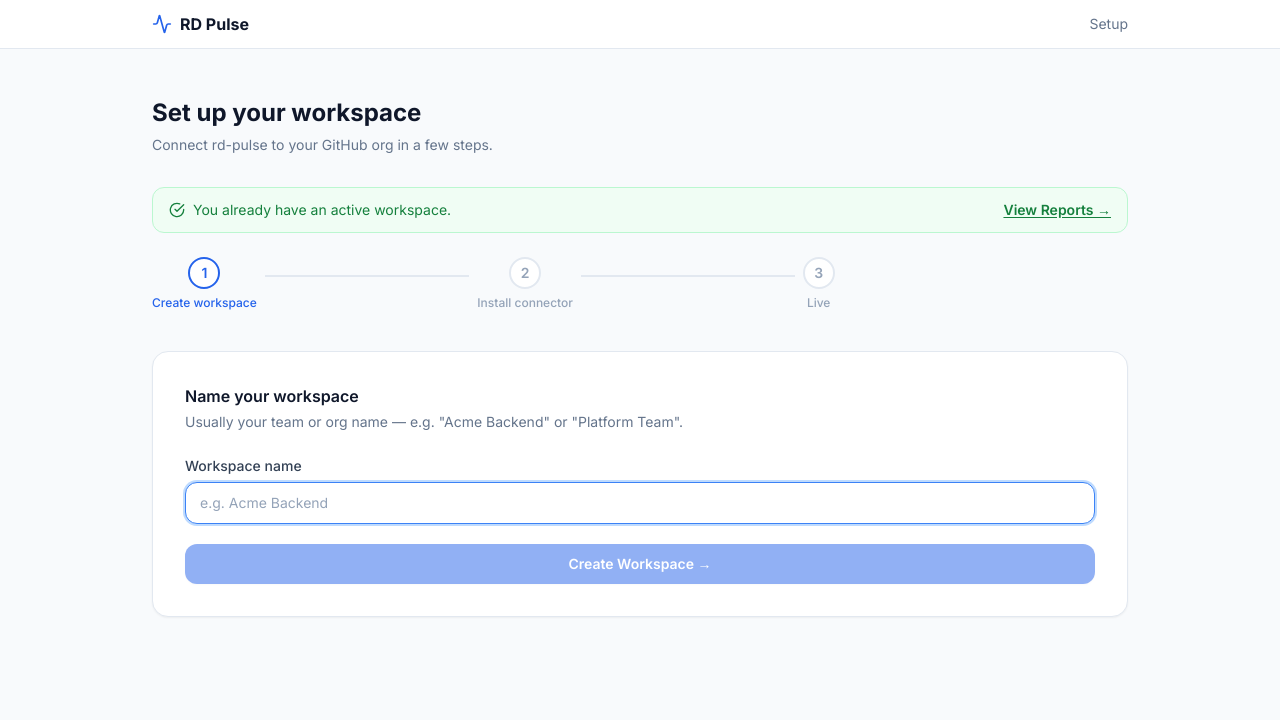
Test: SetupPage › transitions to active step when polling returns active status
Type "Test Team" into the field with test id "setup-name-input" at (640, 503), box [185, 482, 1095, 524]
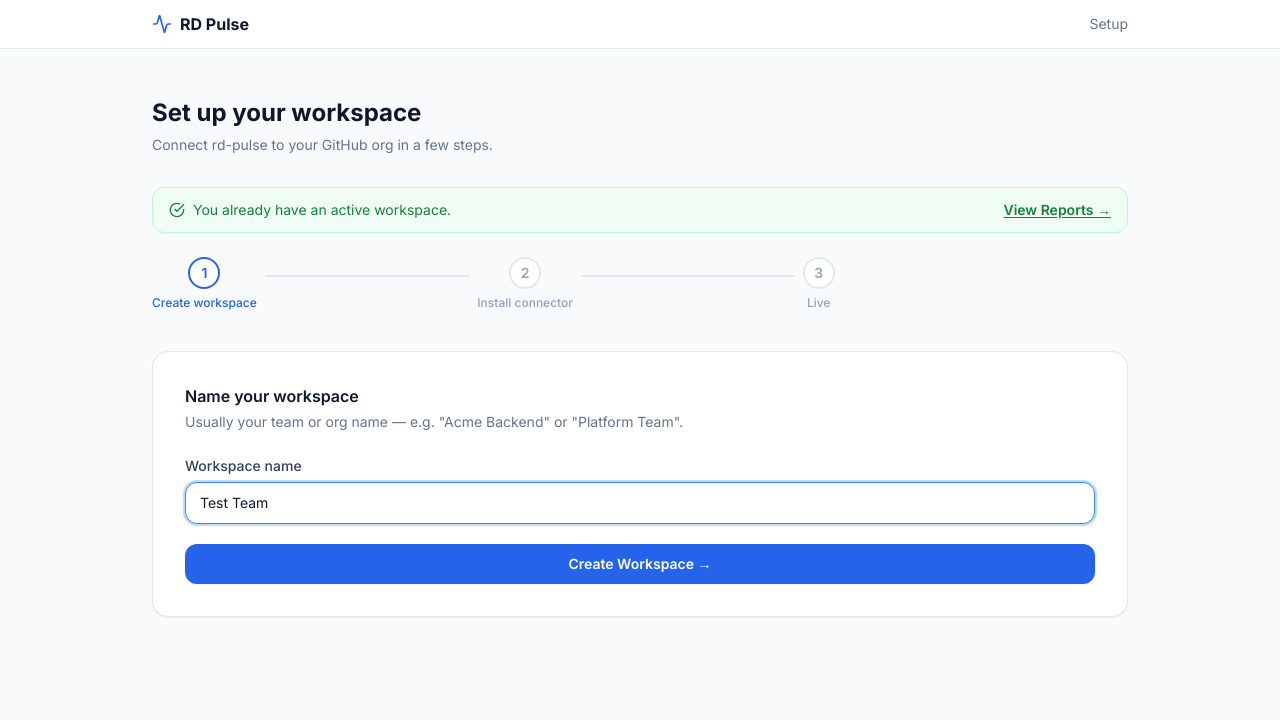
Click the button with test id "setup-submit" at (640, 564), box [185, 544, 1095, 584]
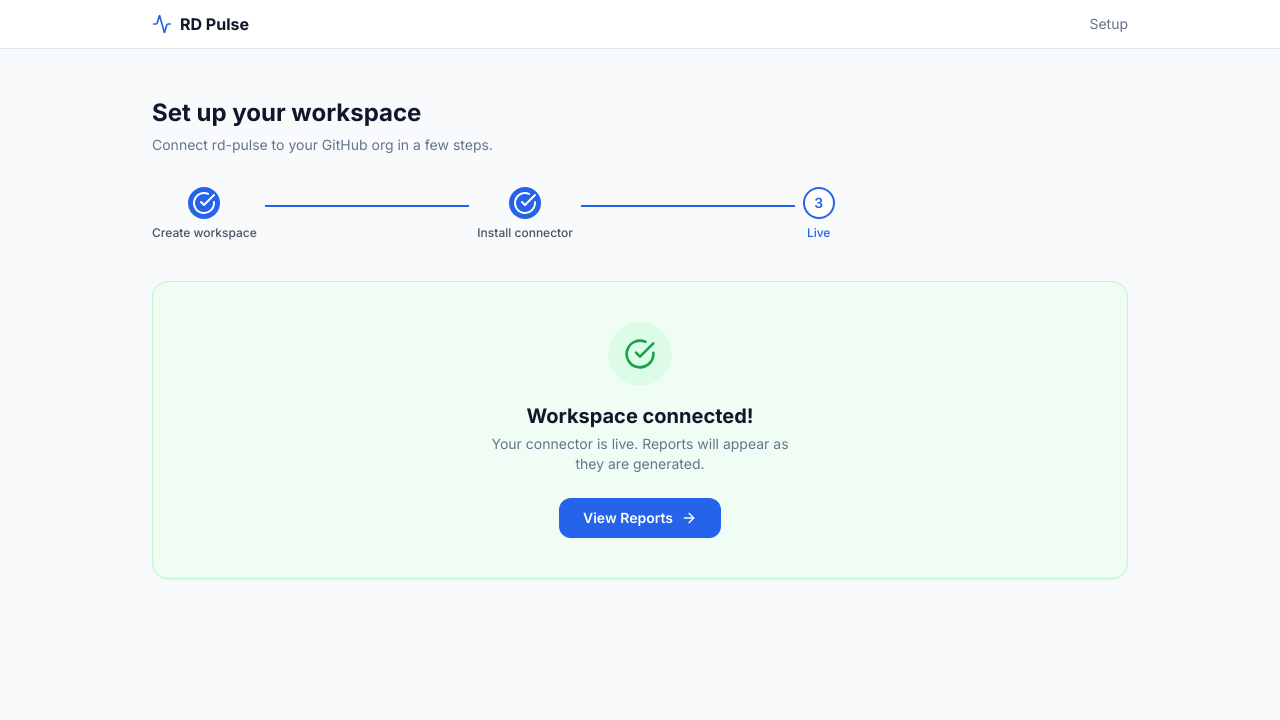
expect the element with test id "workspace-active" is shown: met, box [152, 281, 1128, 579]
